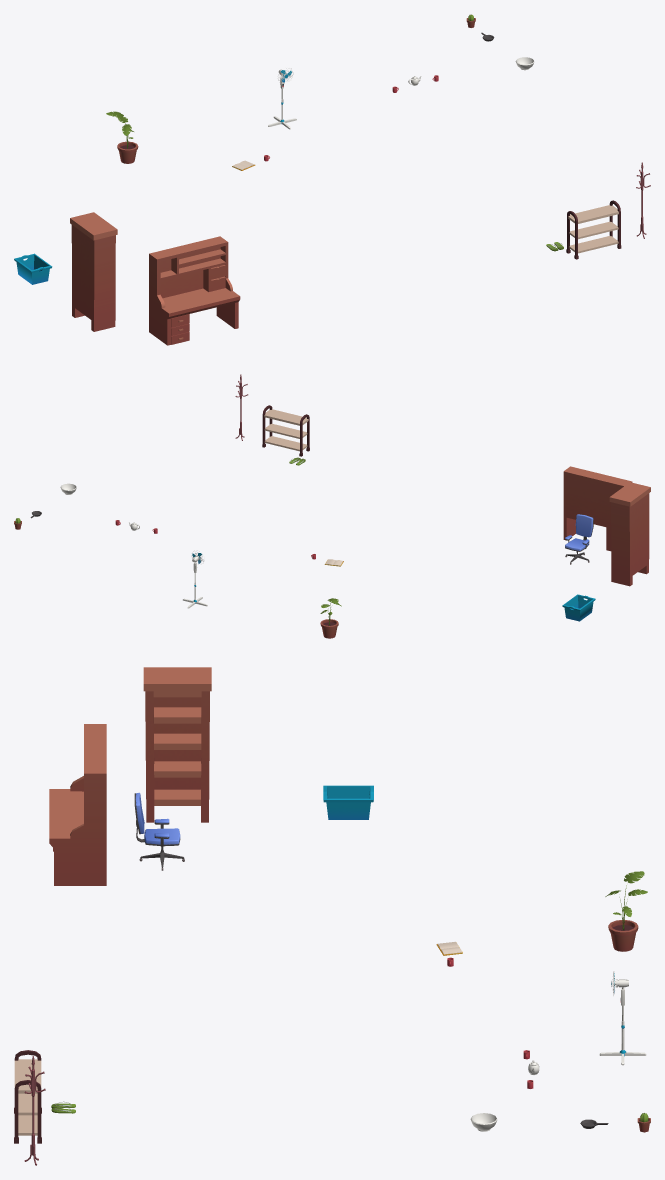
The model's file is P02_Home_Dressing.fbx.
3 renders of one model, top to bottom at view 1: azimuth 30°, elevation 25°; view 2: azimuth 150°, elevation 25°; view 3: azimuth 270°, elevation 25°, orthographic. The views are drawn at different scales.
Parts seen in each view (by area): view 1: P02_Study_Desk, P02_Bookcase, P02_Shoe_Rack, P02_Bedroom_Basket, P02_Living_Plant; view 2: P02_Bookcase, P02_Study_Desk, P02_Shoe_Rack, P02_Study_Chair, P02_Bedroom_Basket, P02_Living_Plant; view 3: P02_Bookcase, P02_Study_Desk, P02_Shoe_Rack, P02_Bedroom_Basket, P02_Study_Chair, P02_Living_Plant.
Boxes of the visible parts, x1,y1,x2,y2 form: P02_Study_Desk: [149, 236, 240, 345]; P02_Bookcase: [70, 212, 117, 331]; P02_Shoe_Rack: [566, 200, 621, 259]; P02_Bedroom_Basket: [14, 253, 52, 284]; P02_Living_Plant: [106, 111, 138, 163]; P02_Bookcase: [609, 482, 650, 586]; P02_Study_Desk: [563, 466, 632, 551]; P02_Shoe_Rack: [262, 405, 309, 456]; P02_Study_Chair: [565, 514, 593, 564]; P02_Bedroom_Basket: [562, 594, 595, 621]; P02_Living_Plant: [320, 598, 341, 638]; P02_Bookcase: [143, 667, 211, 822]; P02_Study_Desk: [49, 724, 106, 885]; P02_Shoe_Rack: [14, 1050, 41, 1143]; P02_Bedroom_Basket: [323, 785, 373, 819]; P02_Study_Chair: [134, 792, 184, 870]; P02_Living_Plant: [605, 871, 647, 951].
Size of the model in its own units: 1295 by 216 by 894.
16 materials, 16 textured.
